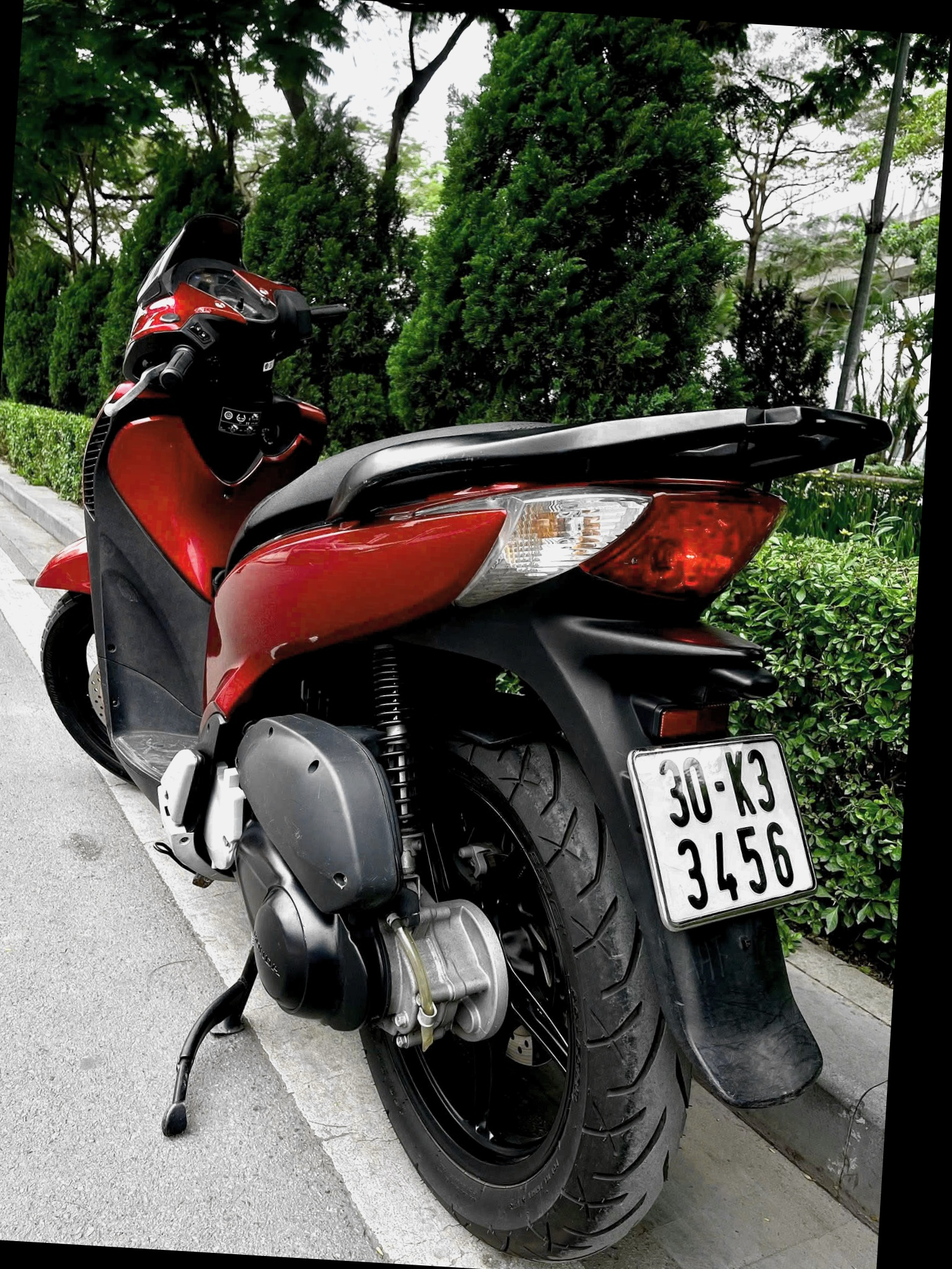Bien-so: (638, 754, 852, 973)
